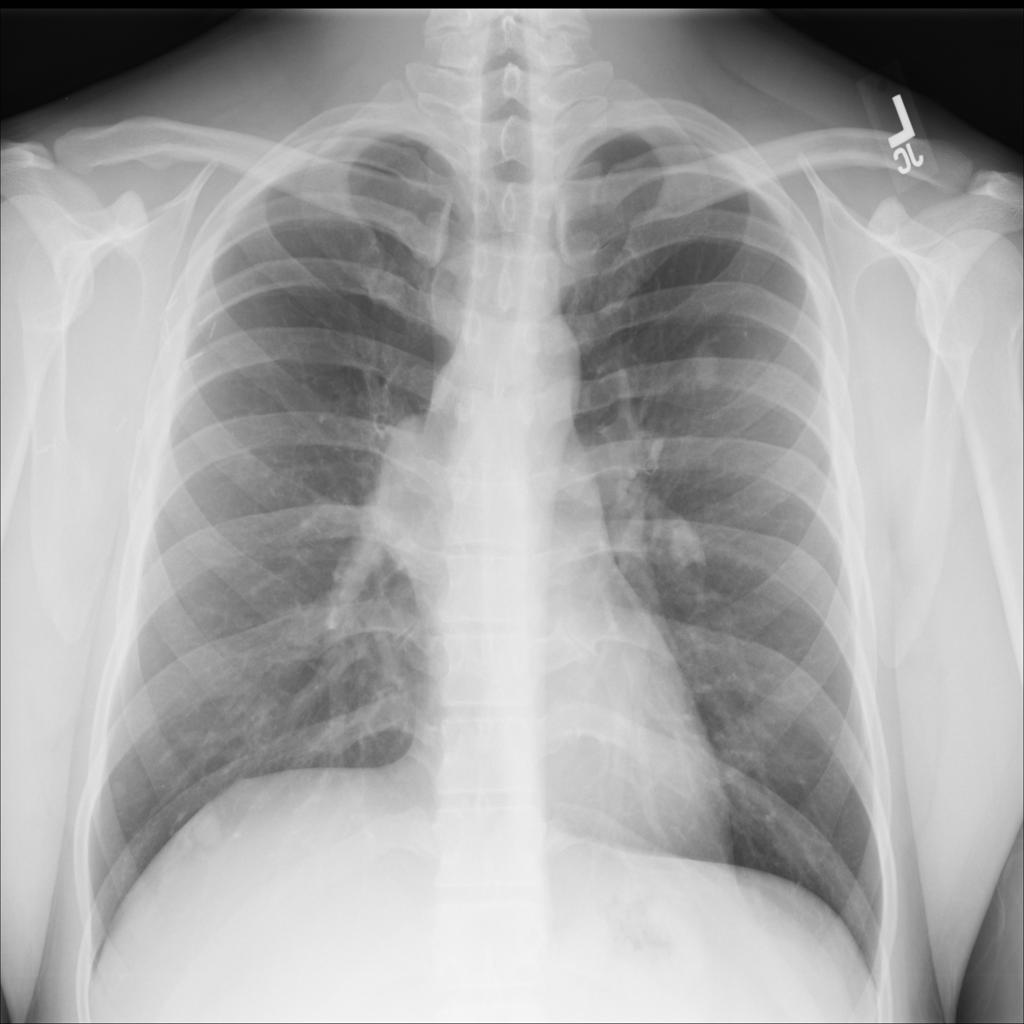nodule: (675, 322, 740, 405), (651, 503, 717, 580), (177, 793, 245, 865), (95, 761, 145, 814)
